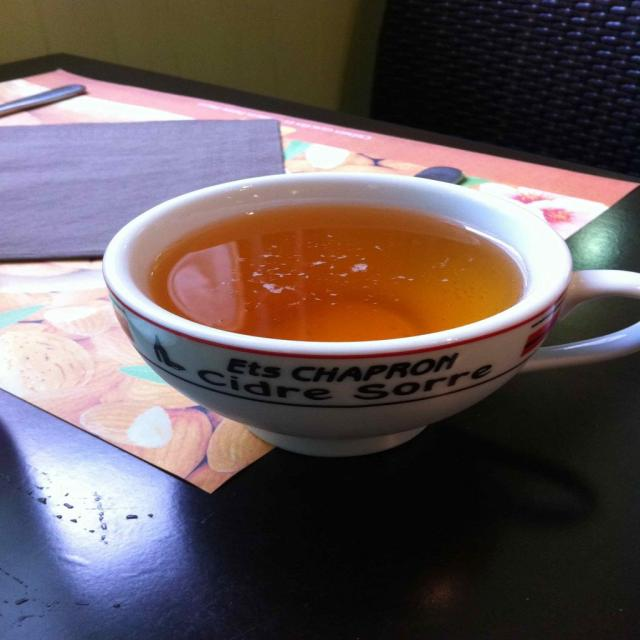Tea: (144, 205, 525, 344)
